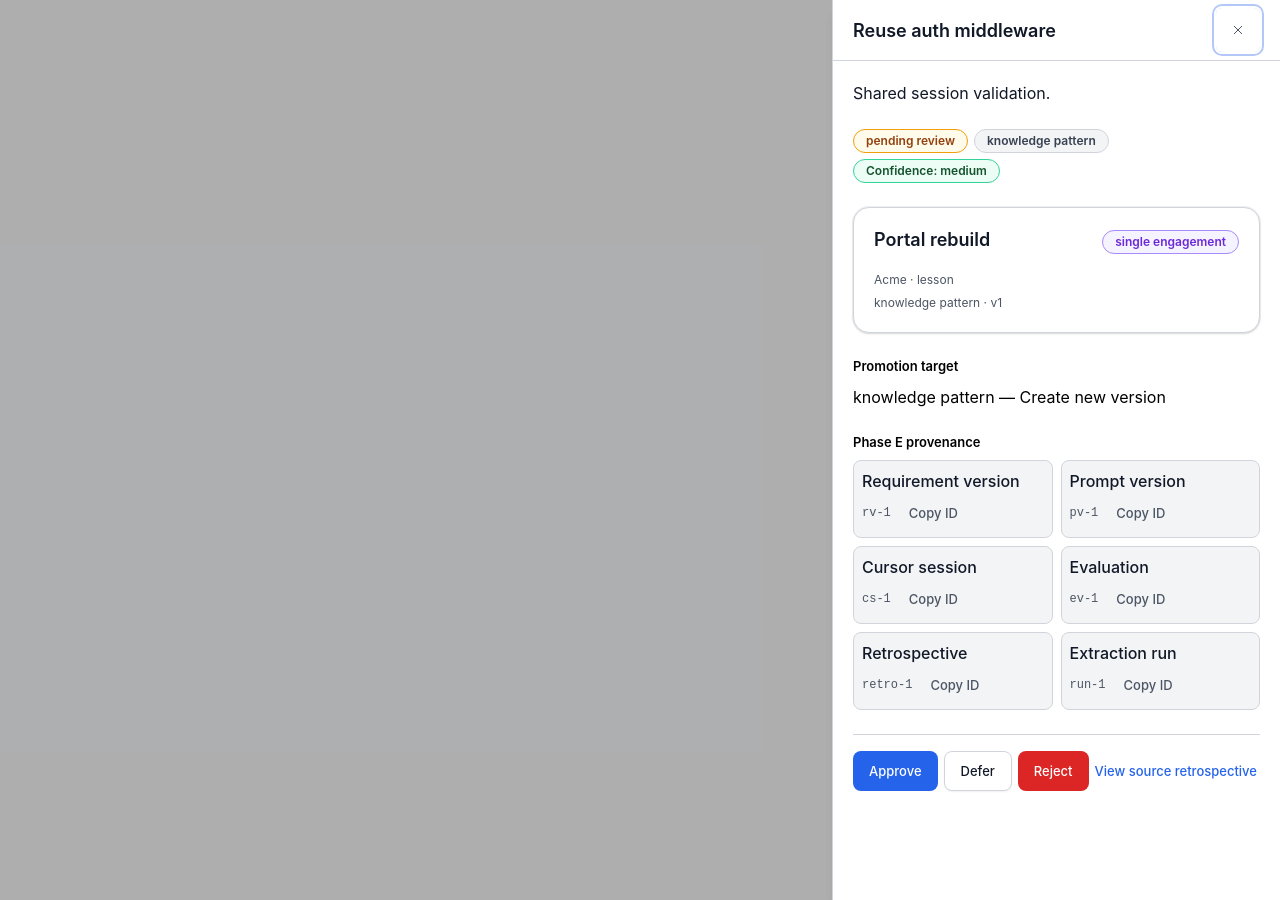
Test: LearningCandidateDetailSidePanel › opens approval dialog on approve click
Click the button "Approve" at (895, 771), box [853,751,938,791]
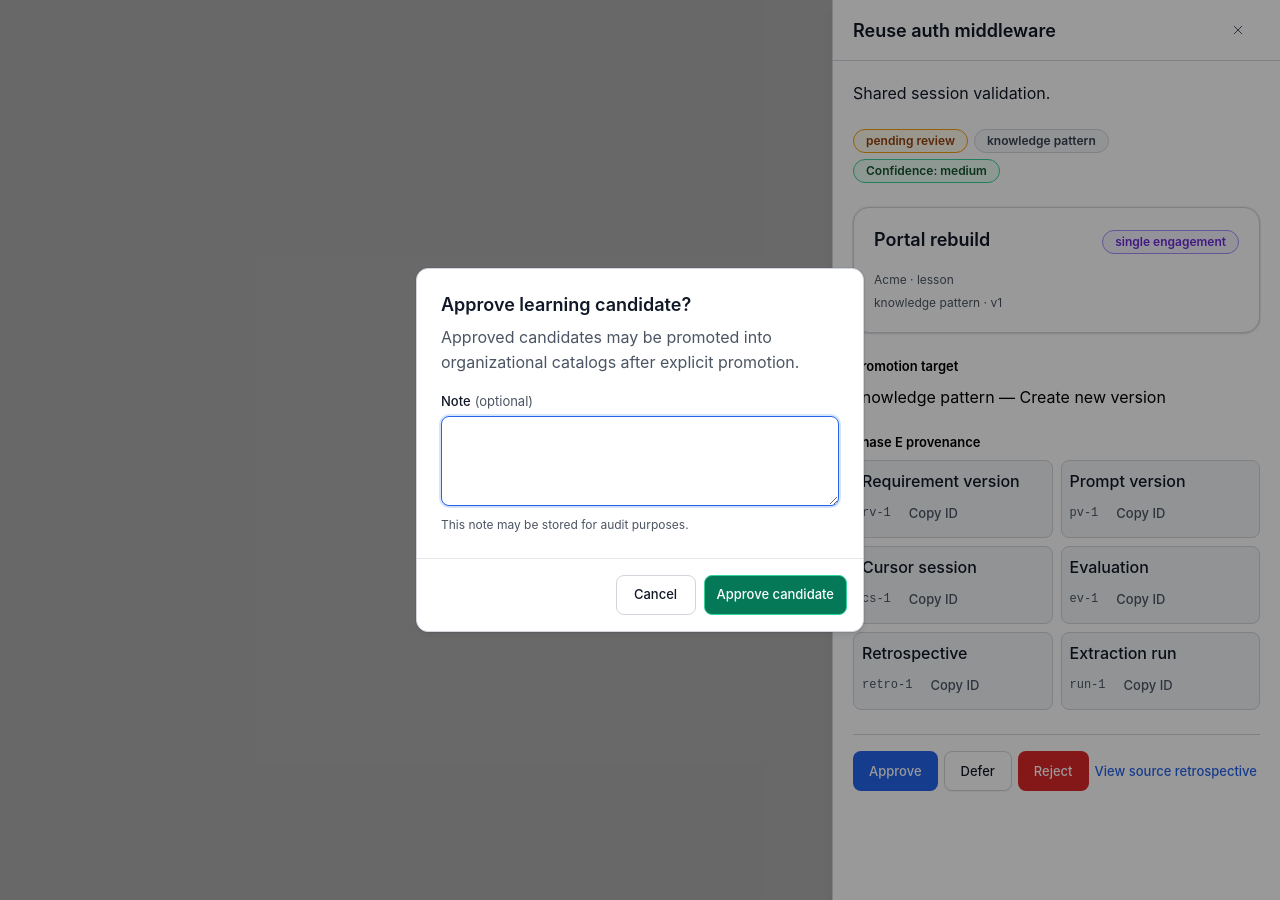
Check: the heading "Approve learning candidate?" is shown, box [441,294,691,316]
